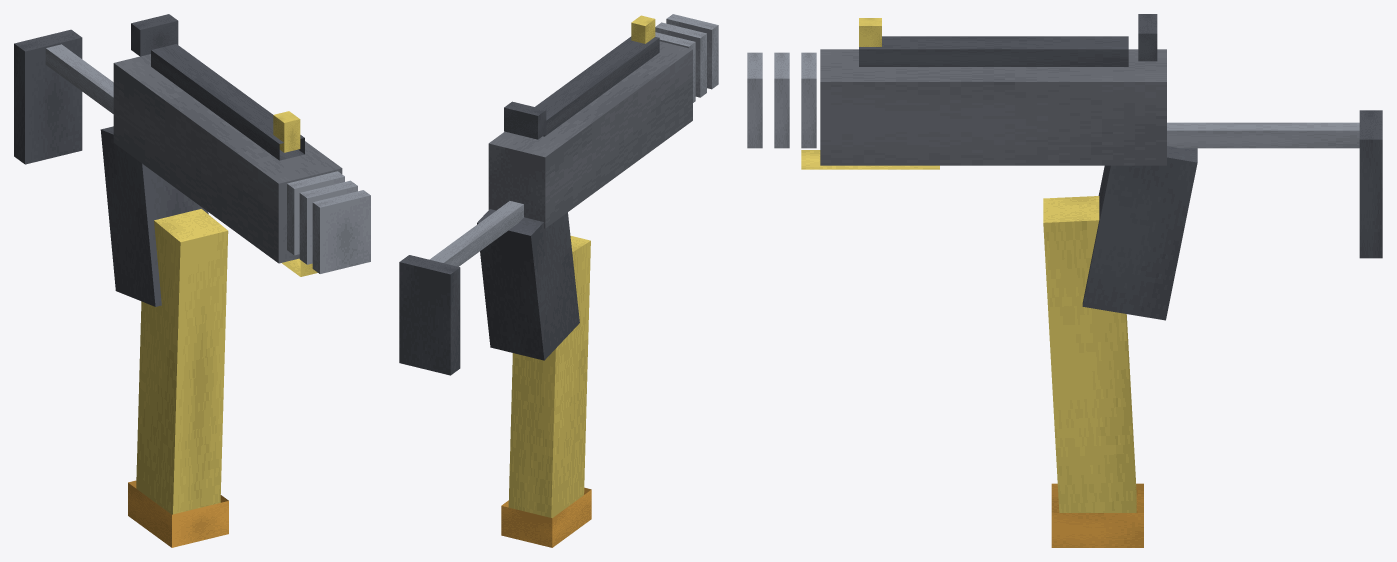
File: weapon_mp.glb
The picture shows the model from 3 angles, left to right: view 1: azimuth 30°, elevation 25°; view 2: azimuth 150°, elevation 25°; view 3: azimuth 270°, elevation 25°; orthographic projection. The views are drawn at different scales.
Parts seen in each view (by area): view 1: weapon_mp; view 2: weapon_mp; view 3: weapon_mp.
Part boxes in pixels (bbox=[...]): weapon_mp: bbox=[14, 14, 370, 547]; weapon_mp: bbox=[399, 14, 718, 547]; weapon_mp: bbox=[747, 14, 1382, 547].
Bounding box in the file's own units: 0.2 × 1.47 × 1.65.
1 material, 1 textured.
